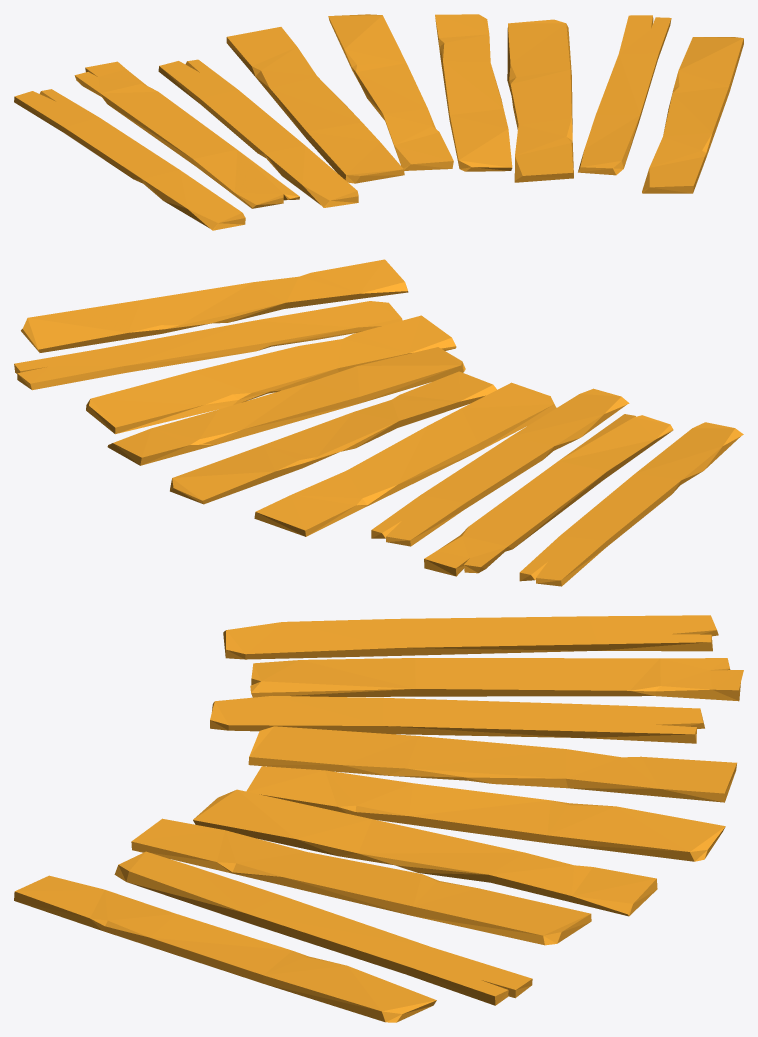
Rendered from SM_Path_Woodplanks_45degrees_Fantasy.fbx.
3 renders of one model, top to bottom at view 1: azimuth 30°, elevation 25°; view 2: azimuth 150°, elevation 25°; view 3: azimuth 270°, elevation 25°, orthographic. The views are drawn at different scales.
Parts seen in each view (by area): view 1: path-woodplanks-45degrees-fantasy; view 2: path-woodplanks-45degrees-fantasy; view 3: path-woodplanks-45degrees-fantasy.
Part boxes in pixels (x1,y1,x2,y2): path-woodplanks-45degrees-fantasy: (14, 14, 743, 230); path-woodplanks-45degrees-fantasy: (14, 259, 743, 586); path-woodplanks-45degrees-fantasy: (14, 615, 743, 1022).
Size of the model in its own units: 3.44 by 0.0723 by 2.67.
